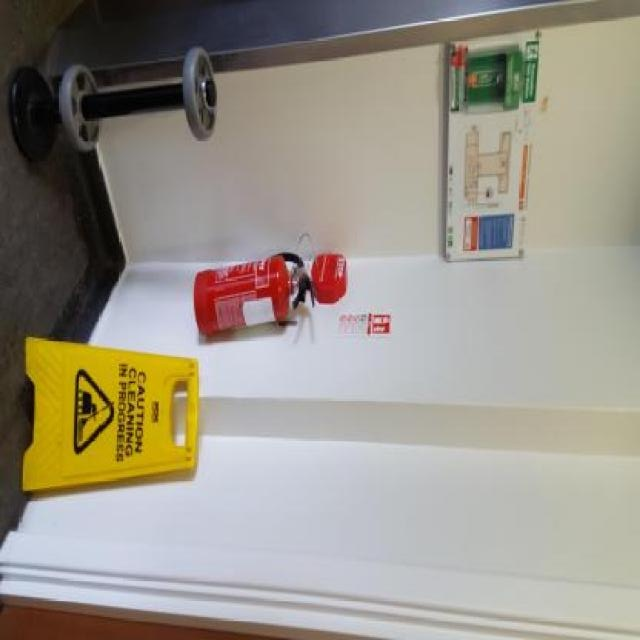fire extinguisher: (194, 253, 315, 339)
